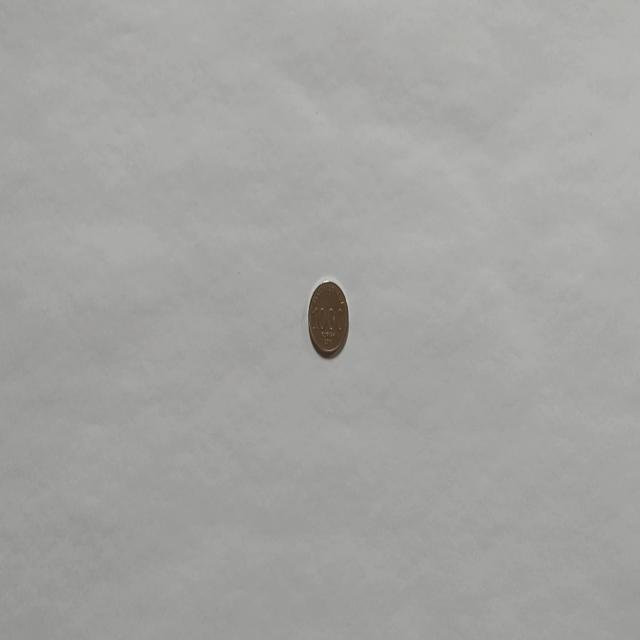seribu rupiah koin: (306, 277, 349, 359)
